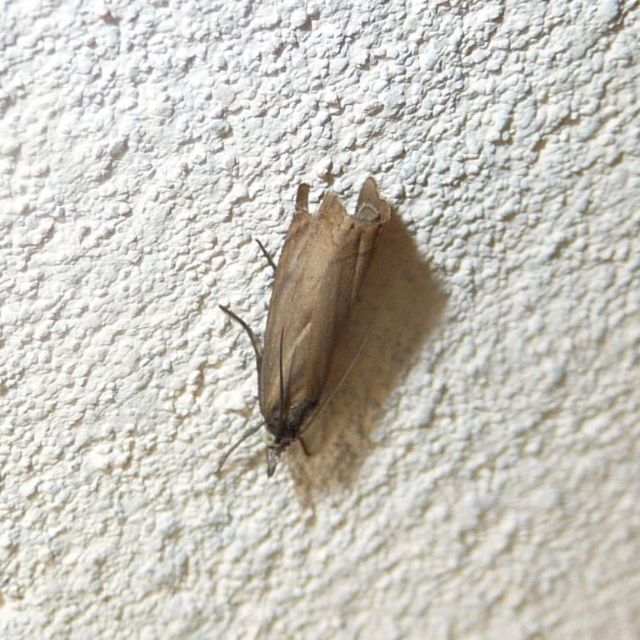Moths and butterflies: (216, 172, 394, 487)
